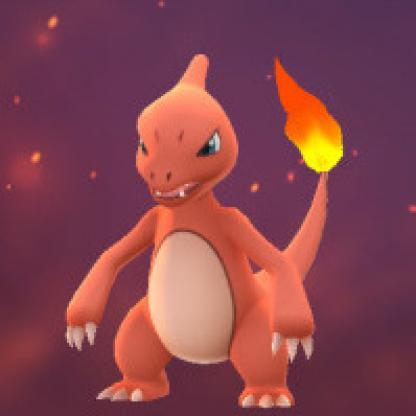Charmeleon: (55, 40, 363, 414)
